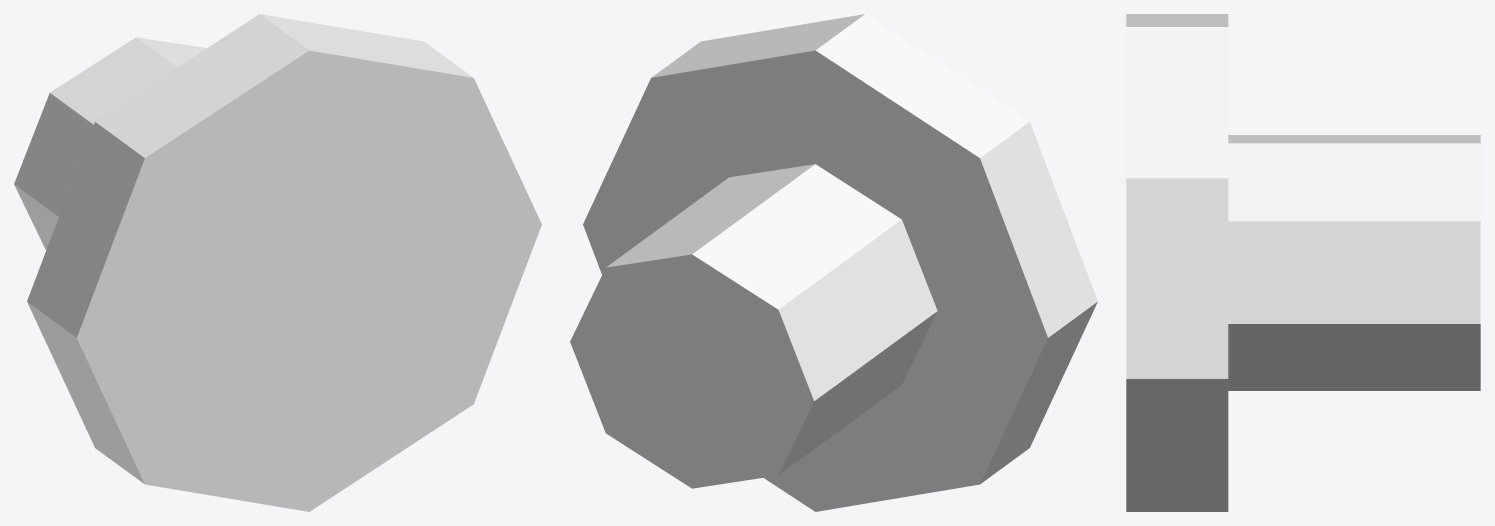
Rendered from button.obj.
The picture shows the model from 3 angles, left to right: view 1: azimuth 30°, elevation 25°; view 2: azimuth 150°, elevation 25°; view 3: azimuth 270°, elevation 25°; orthographic projection. The views are drawn at different scales.
Visible parts, largest first — view 1: Plane.014; view 2: Plane.014; view 3: Plane.014.
Part boxes in pixels (x1,y1,x2,y2): Plane.014: (14,14,541,511); Plane.014: (570,14,1097,511); Plane.014: (1126,14,1480,511).
Size of the model in its own units: 0.3475 by 0.3294 by 0.2242.
Materials: 1 (1 with a texture image).
